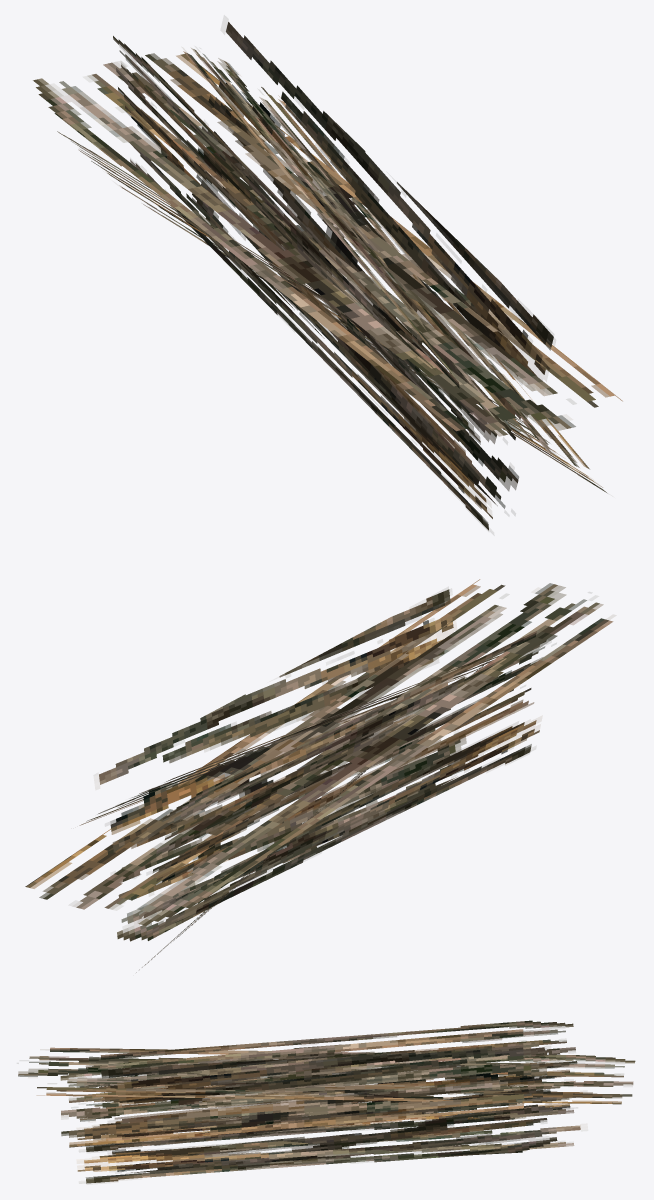
Rendered from st_brushwood.glb.
3 views of the same model, one above another, from view 1: azimuth 30°, elevation 25°; view 2: azimuth 150°, elevation 25°; view 3: azimuth 270°, elevation 25° (orthographic). The views are drawn at different scales.
Parts seen in each view (by area): view 1: st_brushwood-col; view 2: st_brushwood-col; view 3: st_brushwood-col.
Part boxes in pixels (left/top/right/bottom): st_brushwood-col: left=33, top=21, right=622, bottom=530; st_brushwood-col: left=25, top=579, right=613, bottom=972; st_brushwood-col: left=18, top=1020, right=635, bottom=1183.
Size of the model in its own units: 0.2433 by 0.2607 by 0.995.
1 material, 1 textured.
